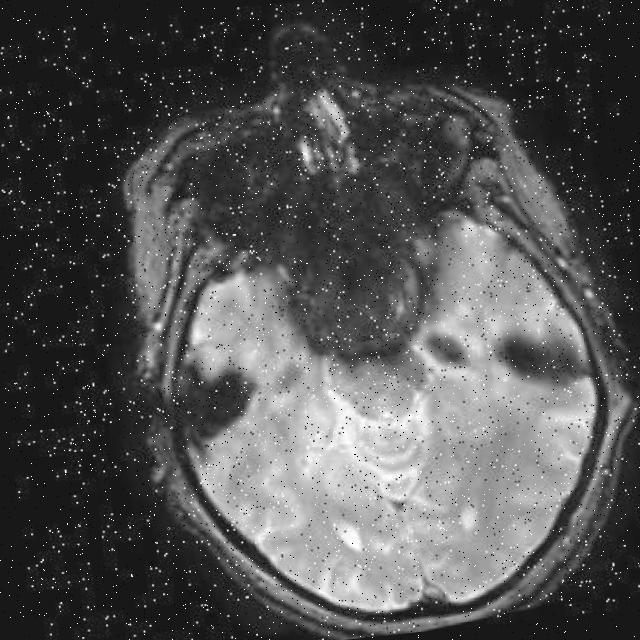CN: (464, 286, 603, 422), (148, 332, 270, 464), (392, 294, 467, 390)
